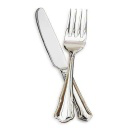fork: (60, 4, 90, 128)
